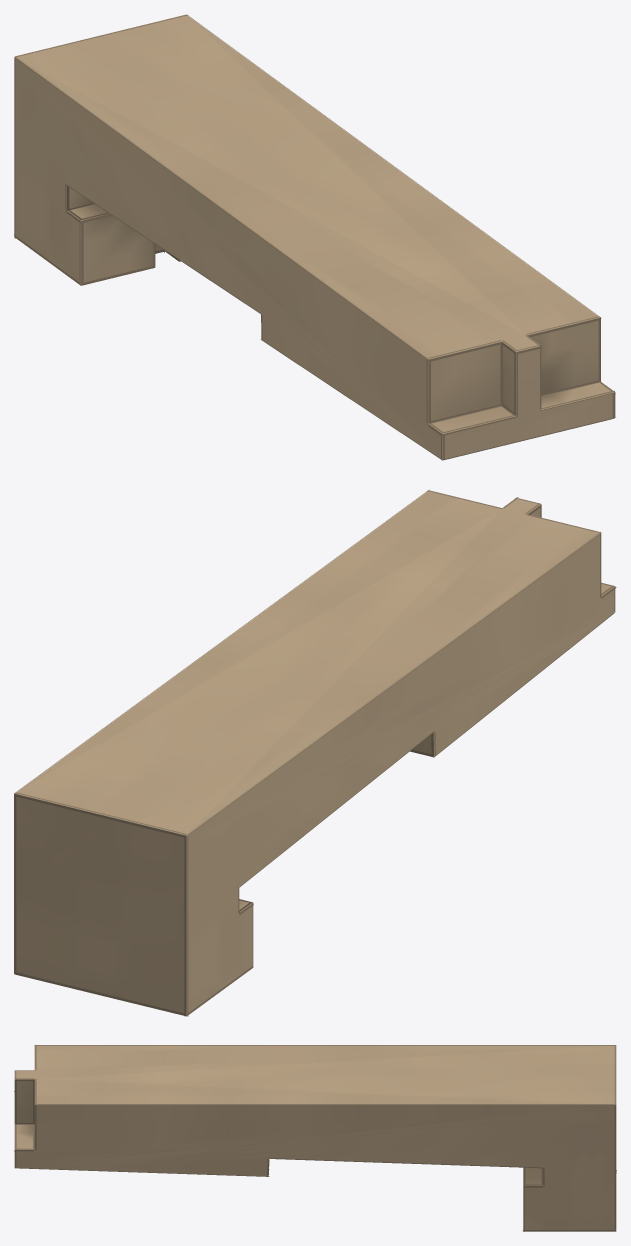
3 views of the same model, one above another, from view 1: azimuth 30°, elevation 25°; view 2: azimuth 150°, elevation 25°; view 3: azimuth 270°, elevation 25° (orthographic). The views are drawn at different scales.
Visible parts, largest first — view 1: part-b; view 2: part-b; view 3: part-b.
Boxes of the visible parts, box(x1,y1,x2,y2) form: part-b: box(14, 14, 615, 460); part-b: box(14, 489, 616, 1016); part-b: box(14, 1045, 616, 1231).
Size of the model in its own units: 0.1227 by 0.1224 by 0.5182.
